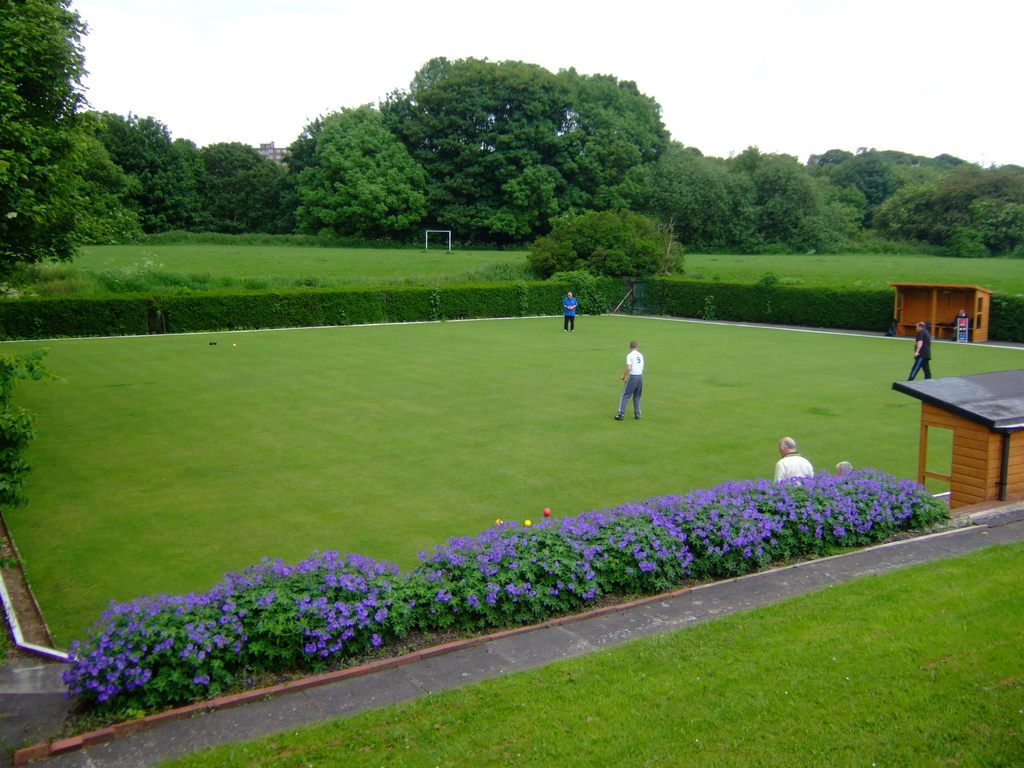person: (772, 435, 816, 481)
